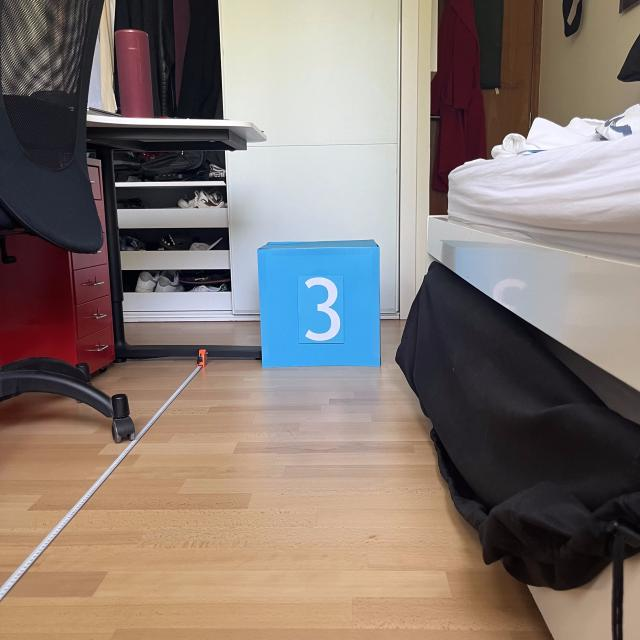box: (253, 235, 384, 370)
